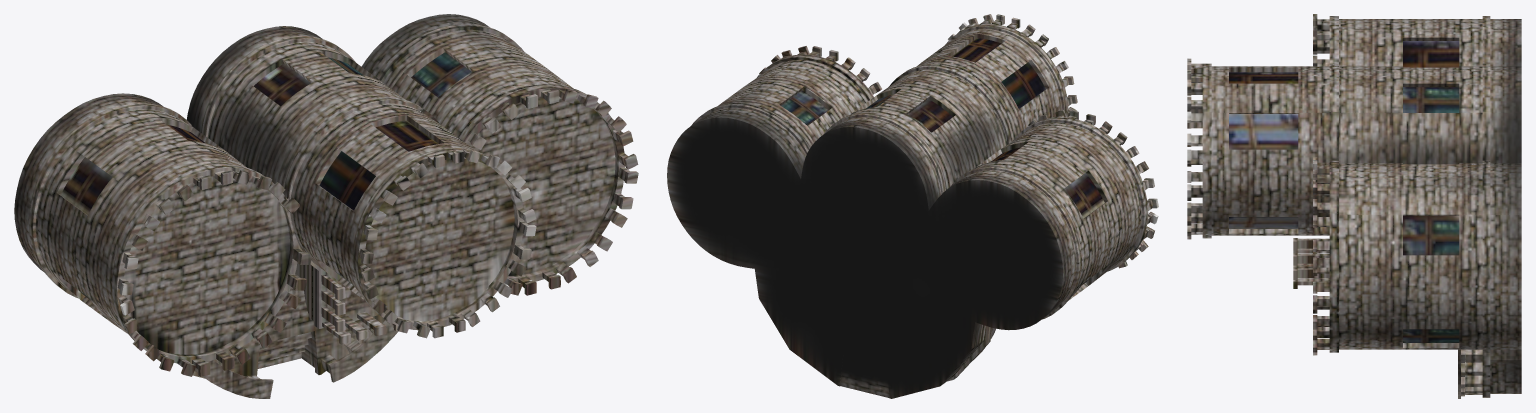
The model's file is 10083_Small Castle_v3_L3.obj.
The picture shows the model from 3 angles, left to right: view 1: azimuth 30°, elevation 25°; view 2: azimuth 150°, elevation 25°; view 3: azimuth 270°, elevation 25°; orthographic projection. The views are drawn at different scales.
Visible parts, largest first — view 1: 10083_Small_Castle_V3_Max2011; view 2: 10083_Small_Castle_V3_Max2011; view 3: 10083_Small_Castle_V3_Max2011.
Boxes of the visible parts, box(x1,y1,x2,y2) form: 10083_Small_Castle_V3_Max2011: box(14, 14, 638, 398); 10083_Small_Castle_V3_Max2011: box(667, 14, 1158, 398); 10083_Small_Castle_V3_Max2011: box(1187, 14, 1521, 398).
Bounding box in the file's own units: 1493 × 957 × 918.
1 material, 1 textured.
